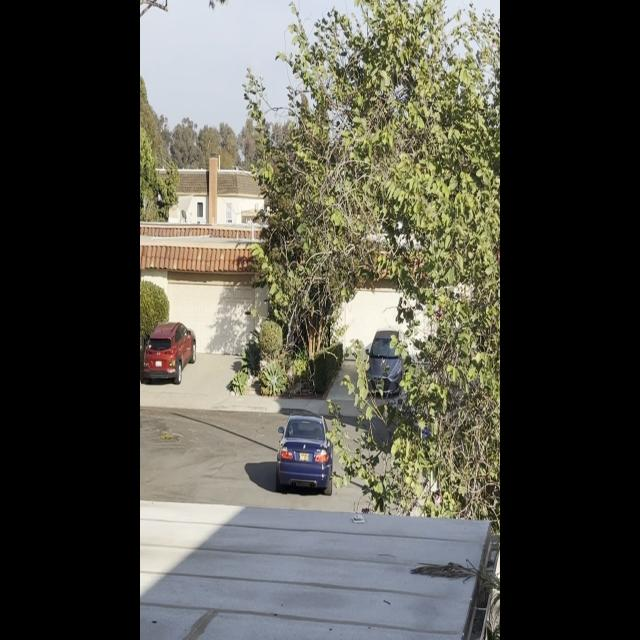Carbeetle: (271, 408, 338, 501)
Civilian: (140, 318, 199, 383), (363, 320, 409, 403)
